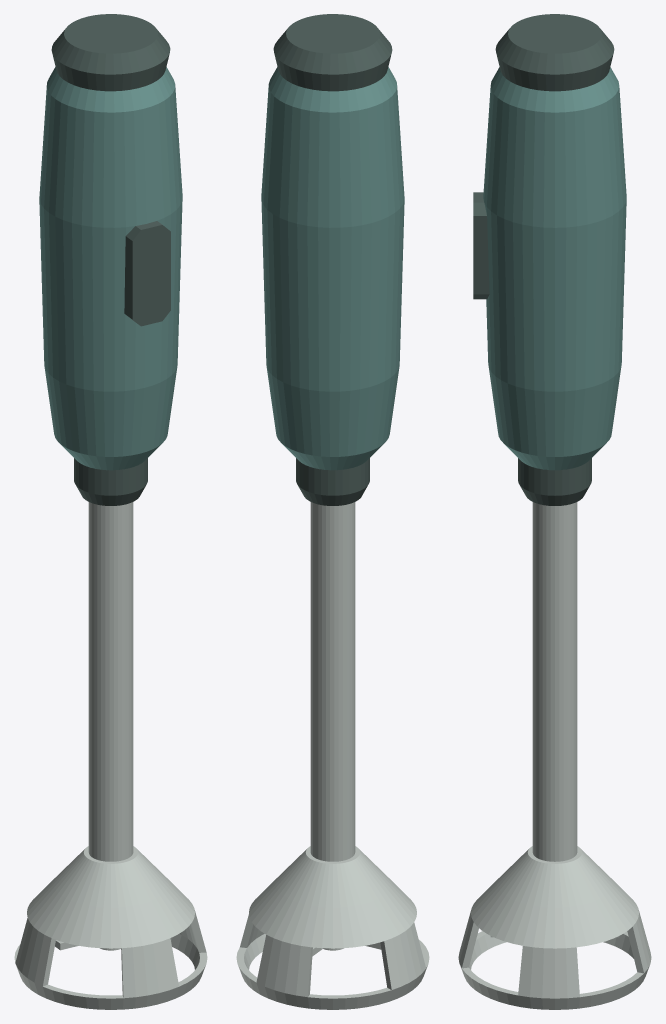
3 renders of one model, left to right at view 1: azimuth 30°, elevation 25°; view 2: azimuth 150°, elevation 25°; view 3: azimuth 270°, elevation 25°, orthographic.
Visible parts, largest first — view 1: WholeLongAxialMotorGripHousing, WholeFlaredBellWithFourRealSideWindows, WholeLongNarrowShaftHousing, WholeRoundedUpperEndCap, WholeBlankFrontThumbControl, WholeLowerHousingCollar; view 2: WholeLongAxialMotorGripHousing, WholeFlaredBellWithFourRealSideWindows, WholeLongNarrowShaftHousing, WholeRoundedUpperEndCap, WholeLowerHousingCollar; view 3: WholeLongAxialMotorGripHousing, WholeFlaredBellWithFourRealSideWindows, WholeLongNarrowShaftHousing, WholeRoundedUpperEndCap, WholeLowerHousingCollar, WholeBlankFrontThumbControl.
Part boxes in pixels (x1,y1,x2,y2): WholeLongAxialMotorGripHousing: (39, 67, 182, 470); WholeFlaredBellWithFourRealSideWindows: (14, 846, 207, 1009); WholeLongNarrowShaftHousing: (88, 502, 133, 861); WholeRoundedUpperEndCap: (51, 14, 170, 91); WholeBlankFrontThumbControl: (124, 221, 170, 326); WholeLowerHousingCollar: (74, 458, 147, 505); WholeLongAxialMotorGripHousing: (261, 67, 404, 470); WholeFlaredBellWithFourRealSideWindows: (236, 846, 429, 1009); WholeLongNarrowShaftHousing: (310, 502, 355, 861); WholeRoundedUpperEndCap: (273, 14, 392, 91); WholeLowerHousingCollar: (296, 458, 369, 505); WholeLongAxialMotorGripHousing: (483, 67, 626, 470); WholeFlaredBellWithFourRealSideWindows: (458, 846, 651, 1009); WholeLongNarrowShaftHousing: (532, 502, 577, 861); WholeRoundedUpperEndCap: (495, 14, 614, 91); WholeLowerHousingCollar: (518, 458, 591, 505); WholeBlankFrontThumbControl: (473, 192, 489, 299).
Size of the model in its own units: 0.078 by 0.418 by 0.078.
